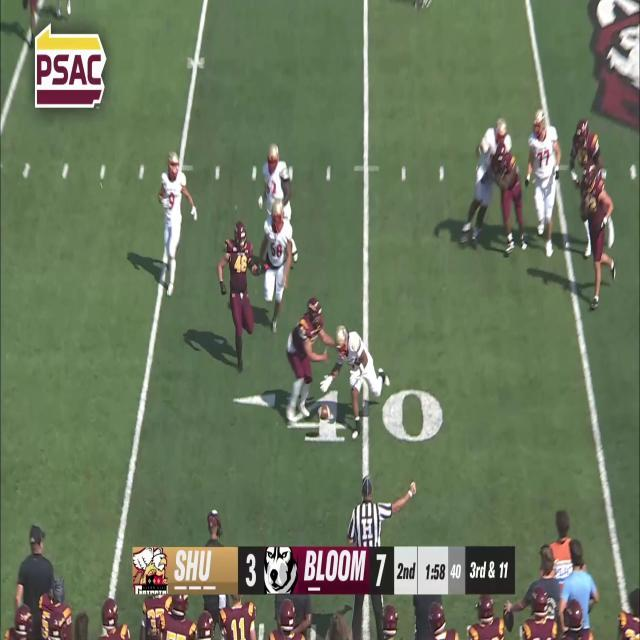football: (318, 404, 332, 420)
